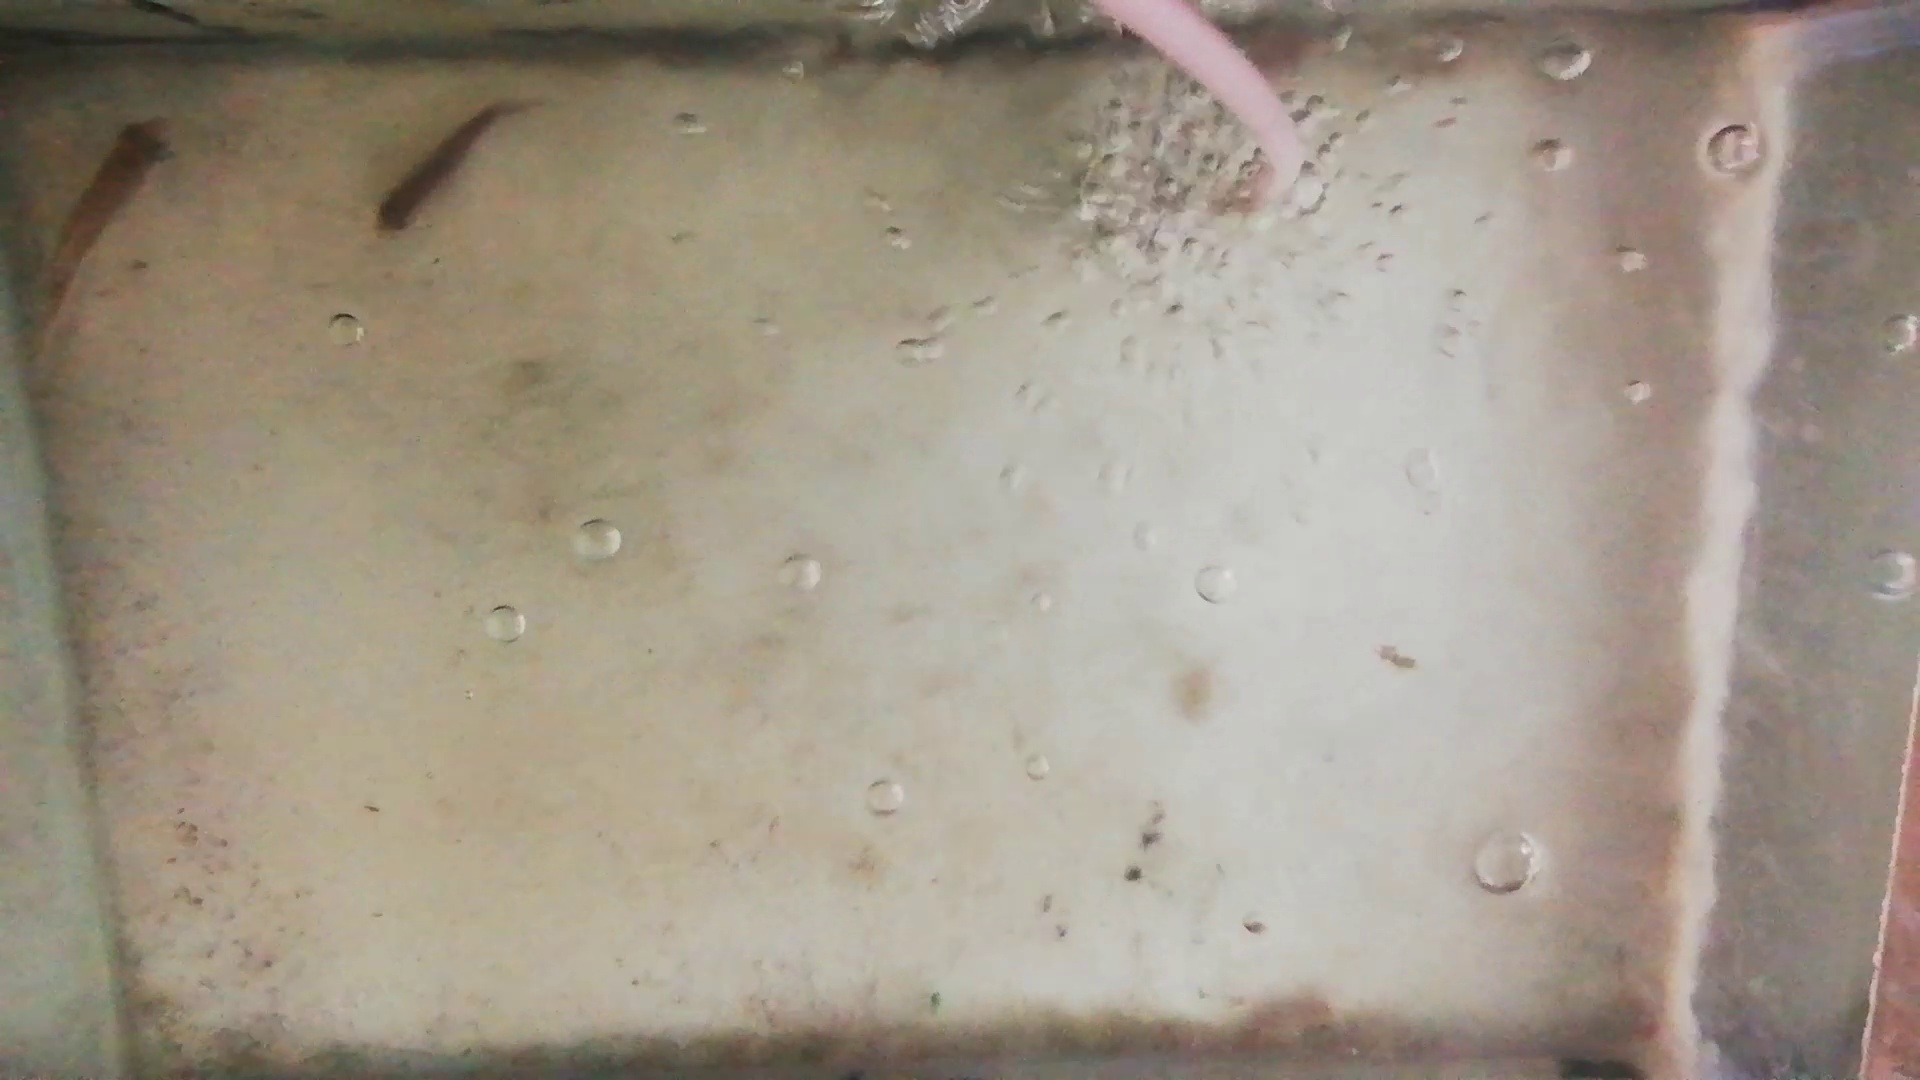fish: (40, 117, 173, 332), (372, 105, 516, 233)
